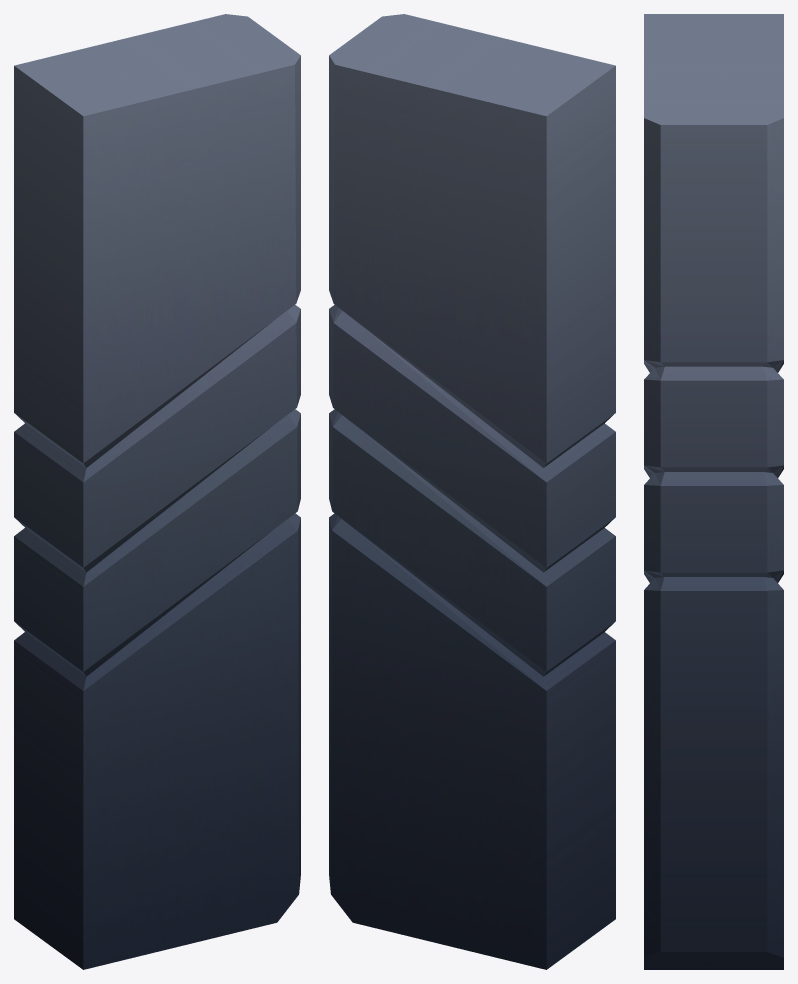
The model's file is Mag1.FBX.
3 views of the same model, side by side, from view 1: azimuth 30°, elevation 25°; view 2: azimuth 150°, elevation 25°; view 3: azimuth 270°, elevation 25° (orthographic).
Parts seen in each view (by area): view 1: Box004; view 2: Box004; view 3: Box004.
Part boxes in pixels (box(x1,y1,x2,y2)): Box004: box(14, 14, 300, 969); Box004: box(329, 14, 615, 969); Box004: box(644, 14, 783, 969).
Bounding box in the file's own units: 3.53 × 12.77 × 1.88.
